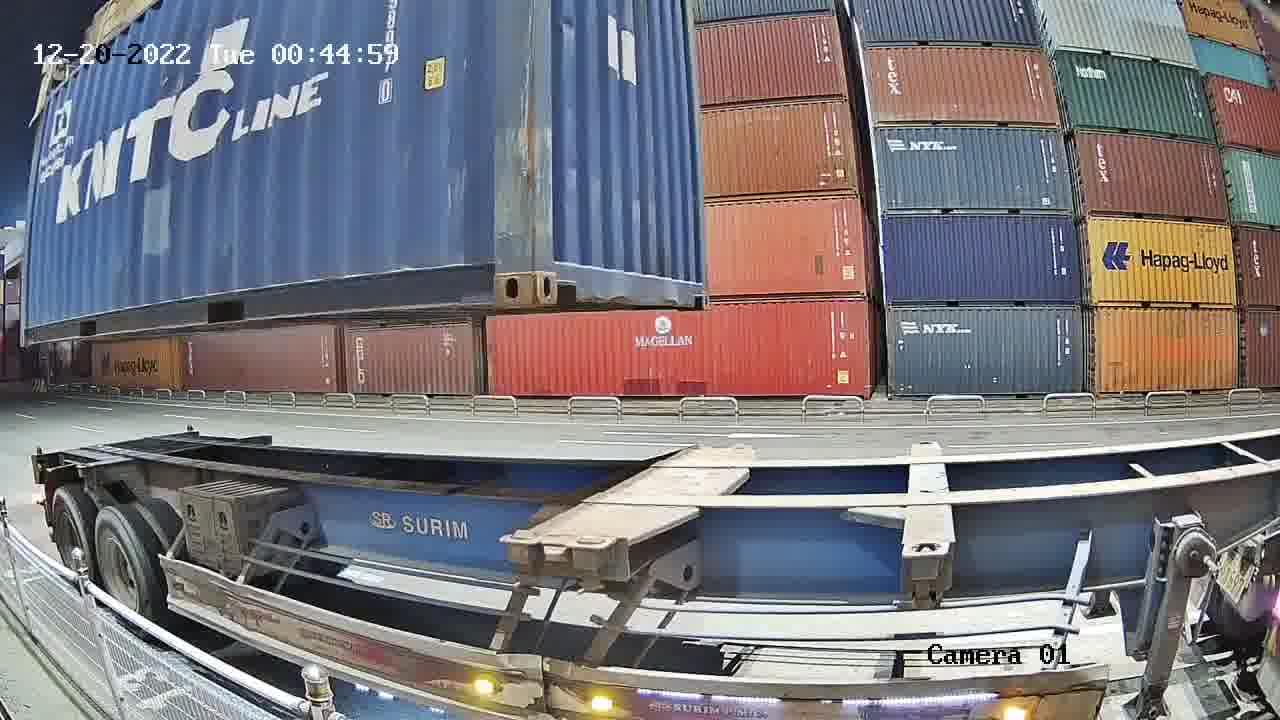Chassis: (507, 445, 714, 545), (570, 445, 759, 547)
Cone: (570, 535, 614, 597), (510, 523, 544, 603)
Hole_L: (536, 232, 593, 306)
Hole_R: (462, 232, 535, 304), (671, 265, 711, 310)
Tire: (92, 511, 148, 610), (50, 495, 87, 570)
